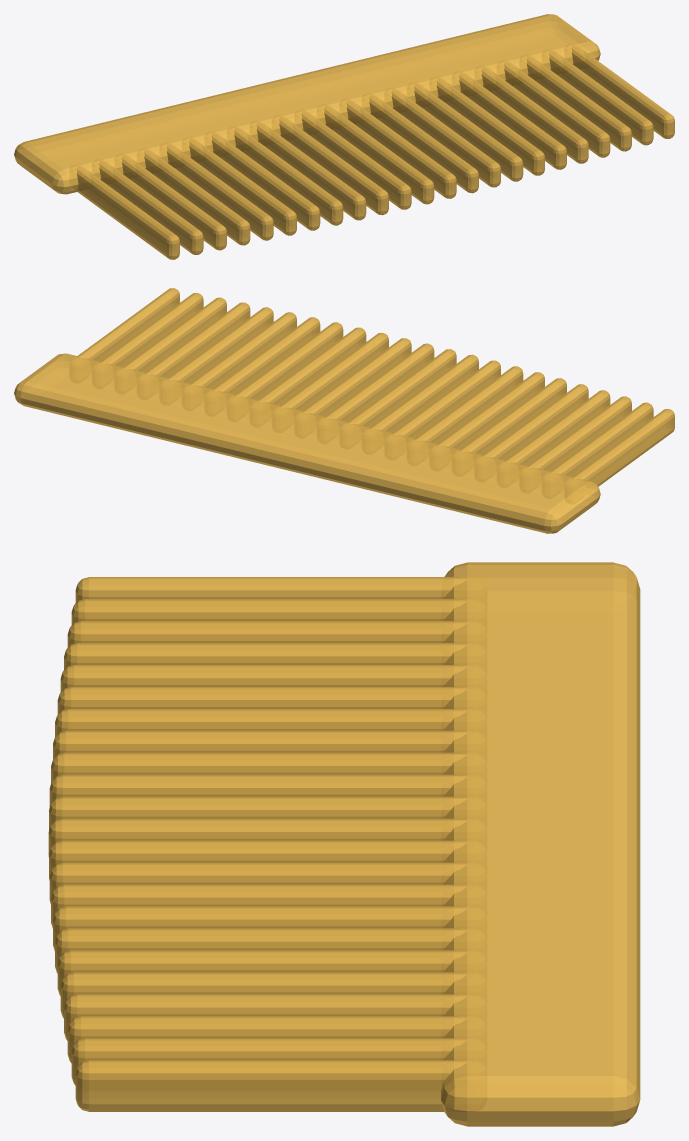
The model's file is ultem-comb.glb.
3 views of the same model, one above another, from view 1: azimuth 30°, elevation 25°; view 2: azimuth 150°, elevation 25°; view 3: azimuth 270°, elevation 25° (orthographic). The views are drawn at different scales.
Visible parts, largest first — view 1: ultem-comb; view 2: ultem-comb; view 3: ultem-comb.
Boxes of the visible parts, x1,y1,x2,y2 form: ultem-comb: [14, 14, 674, 259]; ultem-comb: [14, 288, 674, 533]; ultem-comb: [48, 562, 640, 1126].
Size of the model in its own units: 0.19 by 0.008 by 0.089.
